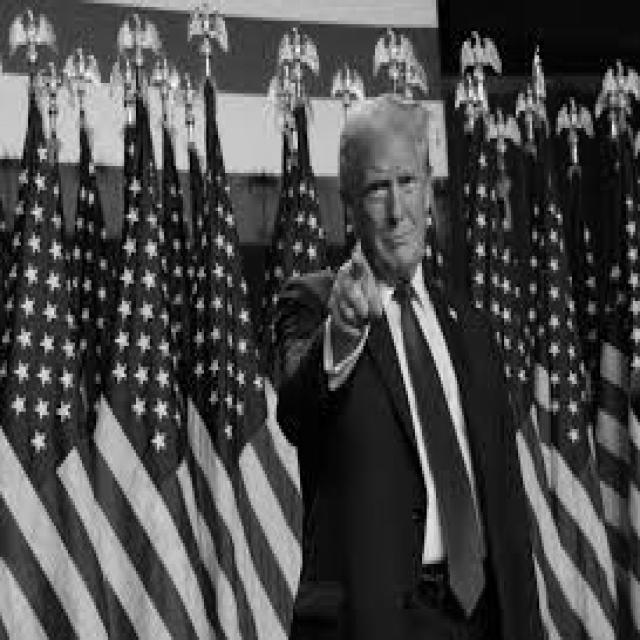stand: (297, 112, 541, 640)
